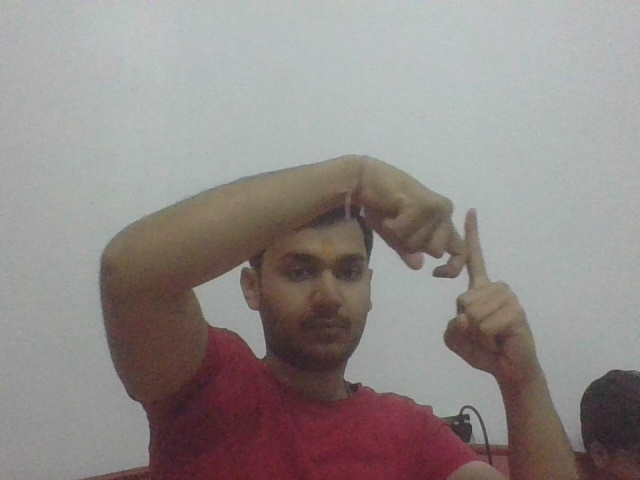K: (429, 201, 511, 298)
